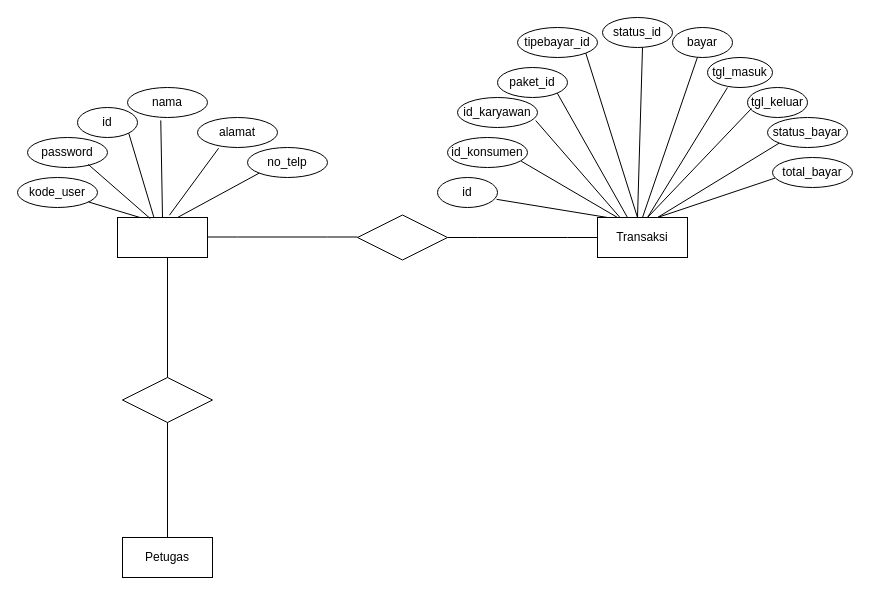
This 870x595 diagram has some shape labels left out. Here are the shapes that lost their labels. From the top down, the centre of each, then its label:
At point 162,237: "Konsumen".
At point 402,237: "Melakukan".
At point 167,399: "Melayani".
